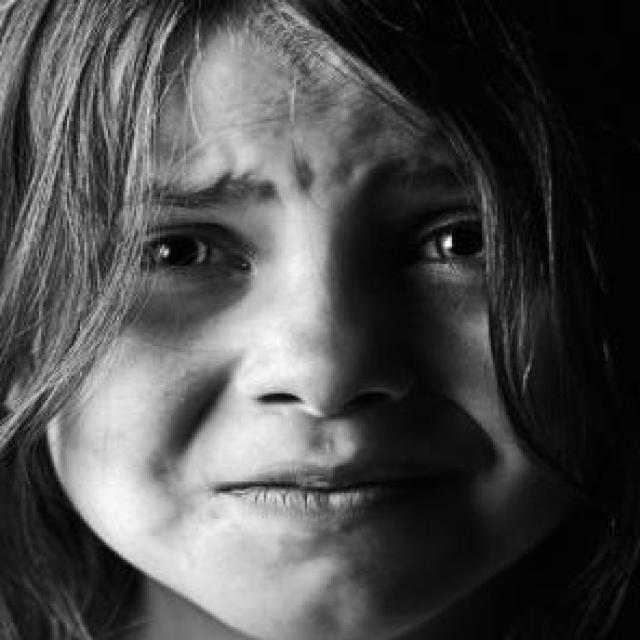Depress: (38, 5, 585, 638)
